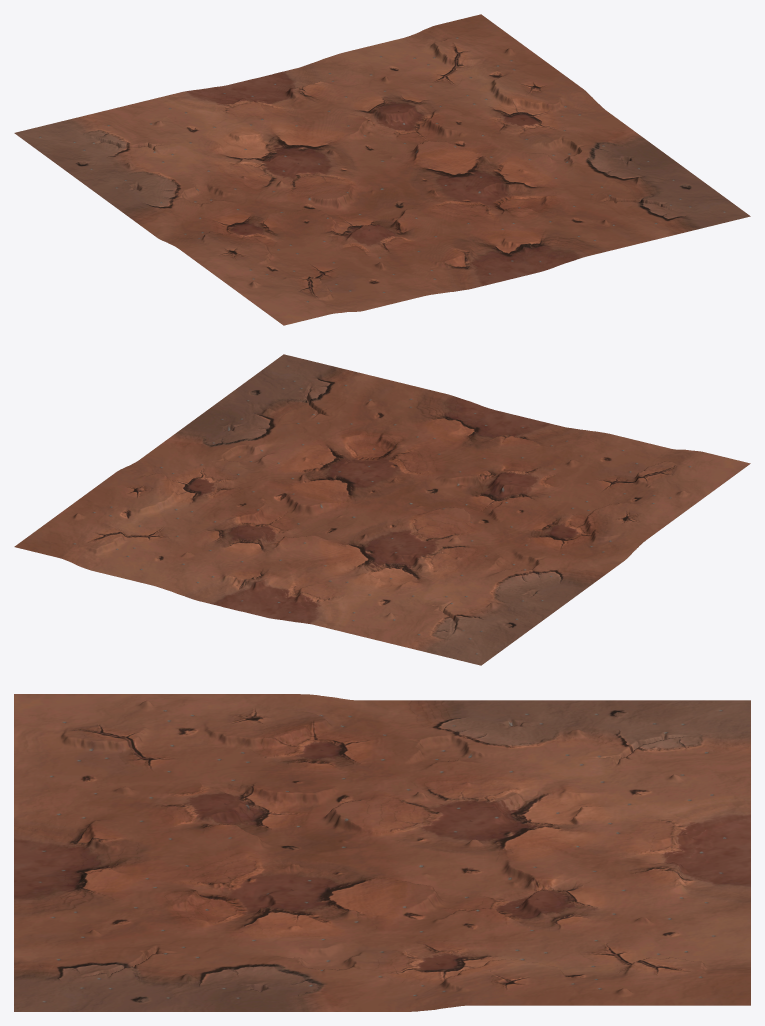
The model's file is terrain-skirmish-1v1.glb.
3 views of the same model, one above another, from view 1: azimuth 30°, elevation 25°; view 2: azimuth 150°, elevation 25°; view 3: azimuth 270°, elevation 25° (orthographic). The views are drawn at different scales.
Parts seen in each view (by area): view 1: Moon_0; view 2: Moon_0; view 3: Moon_0.
Part boxes in pixels (x1,y1,x2,y2): Moon_0: [14, 14, 750, 325]; Moon_0: [14, 354, 750, 665]; Moon_0: [14, 694, 750, 1011].
Bounding box in the file's own units: 2000 × 56 × 2000.
Materials: 1 (1 with a texture image).
